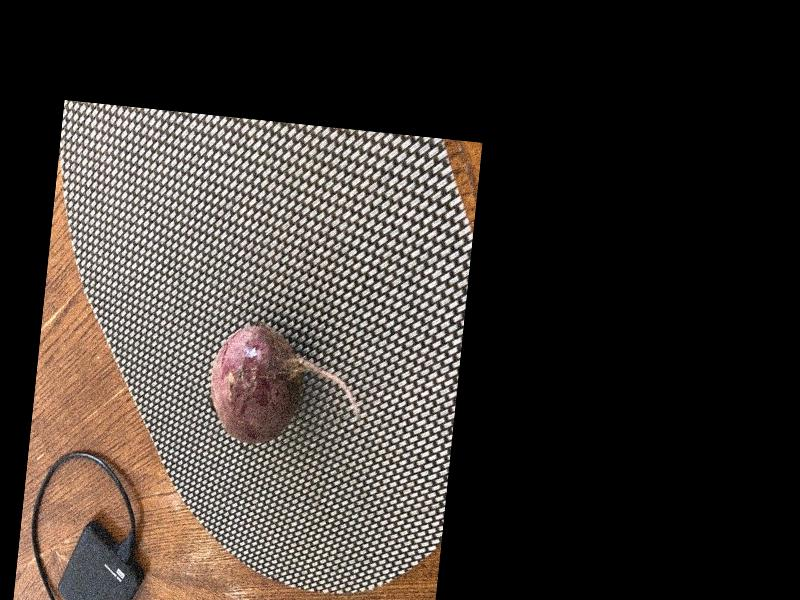Beet: (205, 321, 369, 453)
